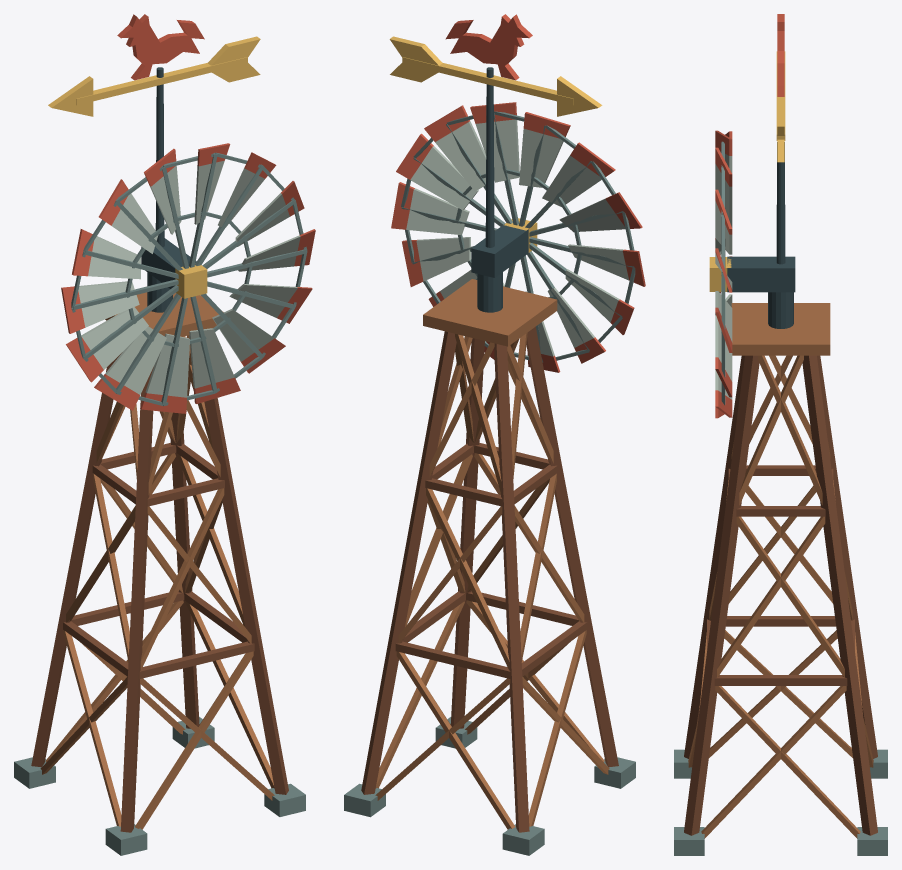
File: farm_windmill.glb
The picture shows the model from 3 angles, left to right: view 1: azimuth 30°, elevation 25°; view 2: azimuth 150°, elevation 25°; view 3: azimuth 270°, elevation 25°; orthographic projection.
Parts seen in each view (by area): view 1: WindmillTower, WindWheel, VaneHead; view 2: WindmillTower, WindWheel, VaneHead; view 3: WindmillTower, WindWheel, VaneHead.
Part boxes in pixels (x1,y1,x2,y2): WindmillTower: (14,272,305,855); WindWheel: (61,143,315,413); VaneHead: (48,14,260,288); WindmillTower: (344,272,635,855); WindWheel: (391,102,645,372); VaneHead: (389,14,602,277); WindmillTower: (674,292,887,855); WindWheel: (709,130,732,418); VaneHead: (727,14,795,292).
Bounding box in the file's own units: 4.2 × 12.79 × 3.15.
